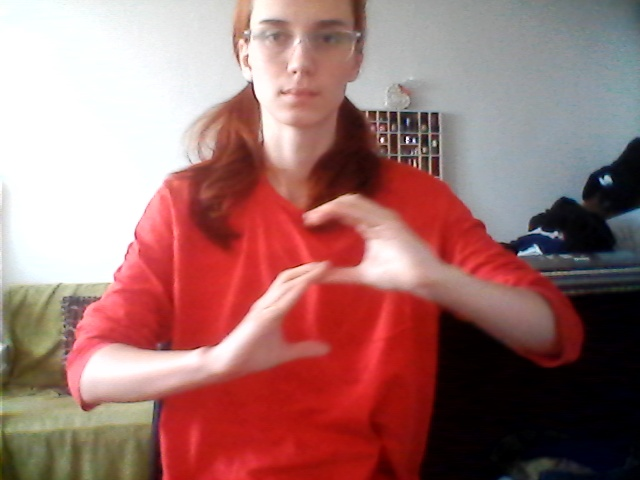s: (235, 184, 427, 382)
